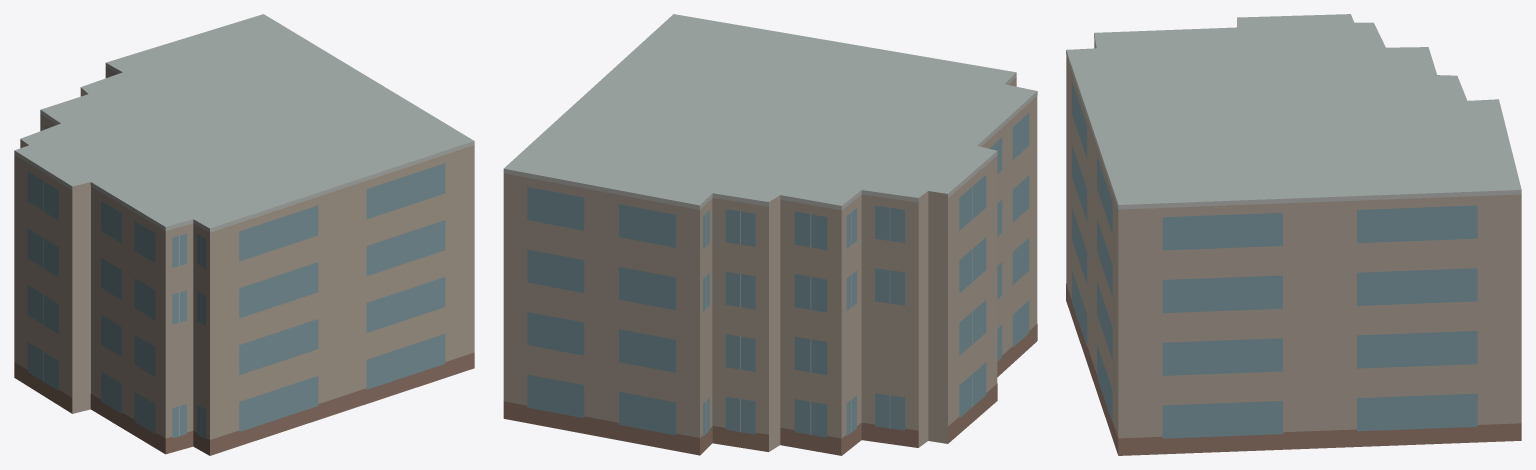
File: survey-upis-32610747.glb
3 renders of one model, left to right at view 1: azimuth 30°, elevation 25°; view 2: azimuth 150°, elevation 25°; view 3: azimuth 270°, elevation 25°, orthographic. The views are drawn at different scales.
Parts seen in each view (by area): view 1: survey-upis-32610747.tmp; view 2: survey-upis-32610747.tmp; view 3: survey-upis-32610747.tmp.
Boxes of the visible parts, bbox=[...] form: survey-upis-32610747.tmp: bbox=[14, 14, 474, 455]; survey-upis-32610747.tmp: bbox=[503, 14, 1037, 455]; survey-upis-32610747.tmp: bbox=[1066, 14, 1521, 455].
Bounding box in the file's own units: 22.05 × 13.5 × 22.23.
